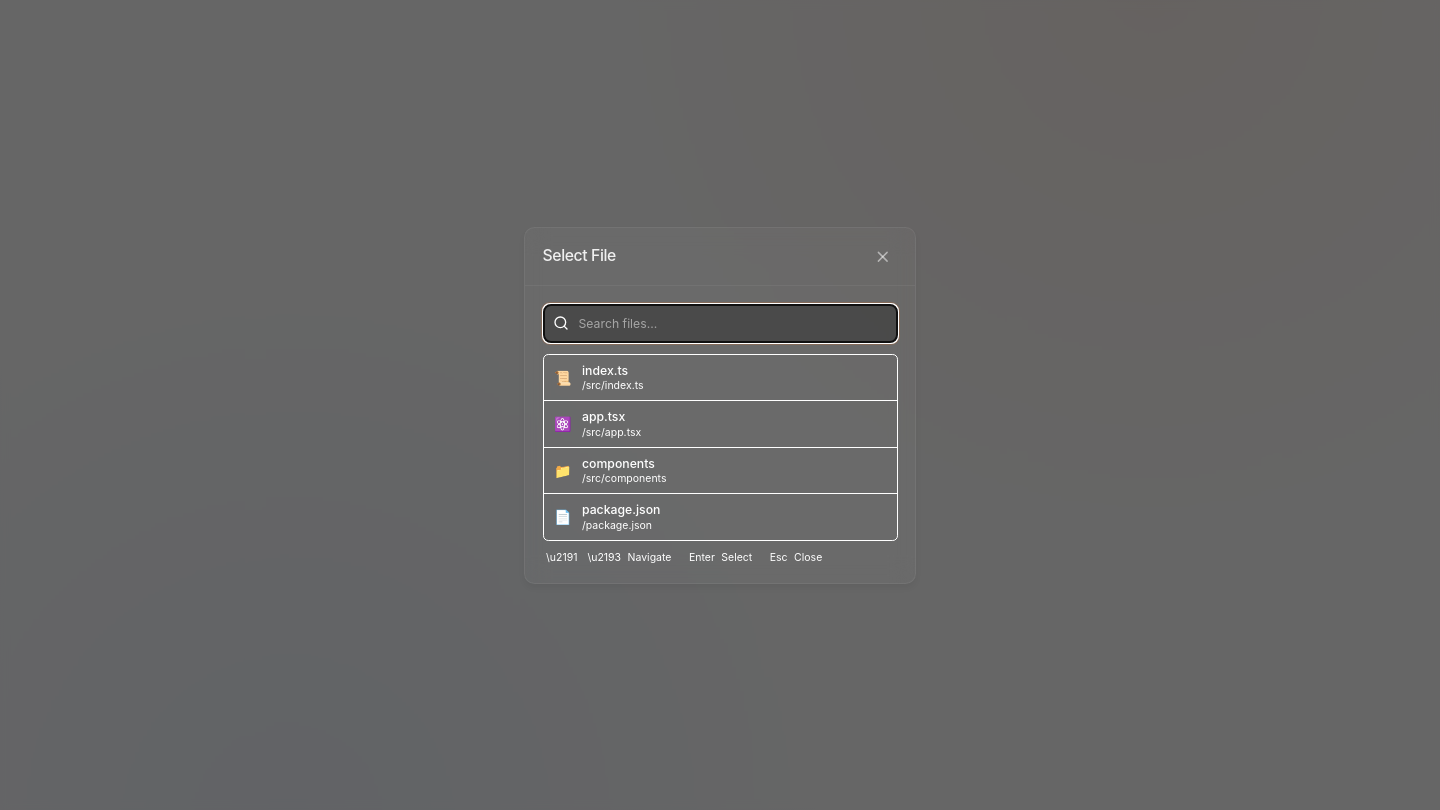
Test: FilePickerModal › empty state › should show message when no files match search
Type "nonexistent" into the field with placeholder "Search files..." at (720, 323), box x1=542 y1=304 x2=898 y2=343
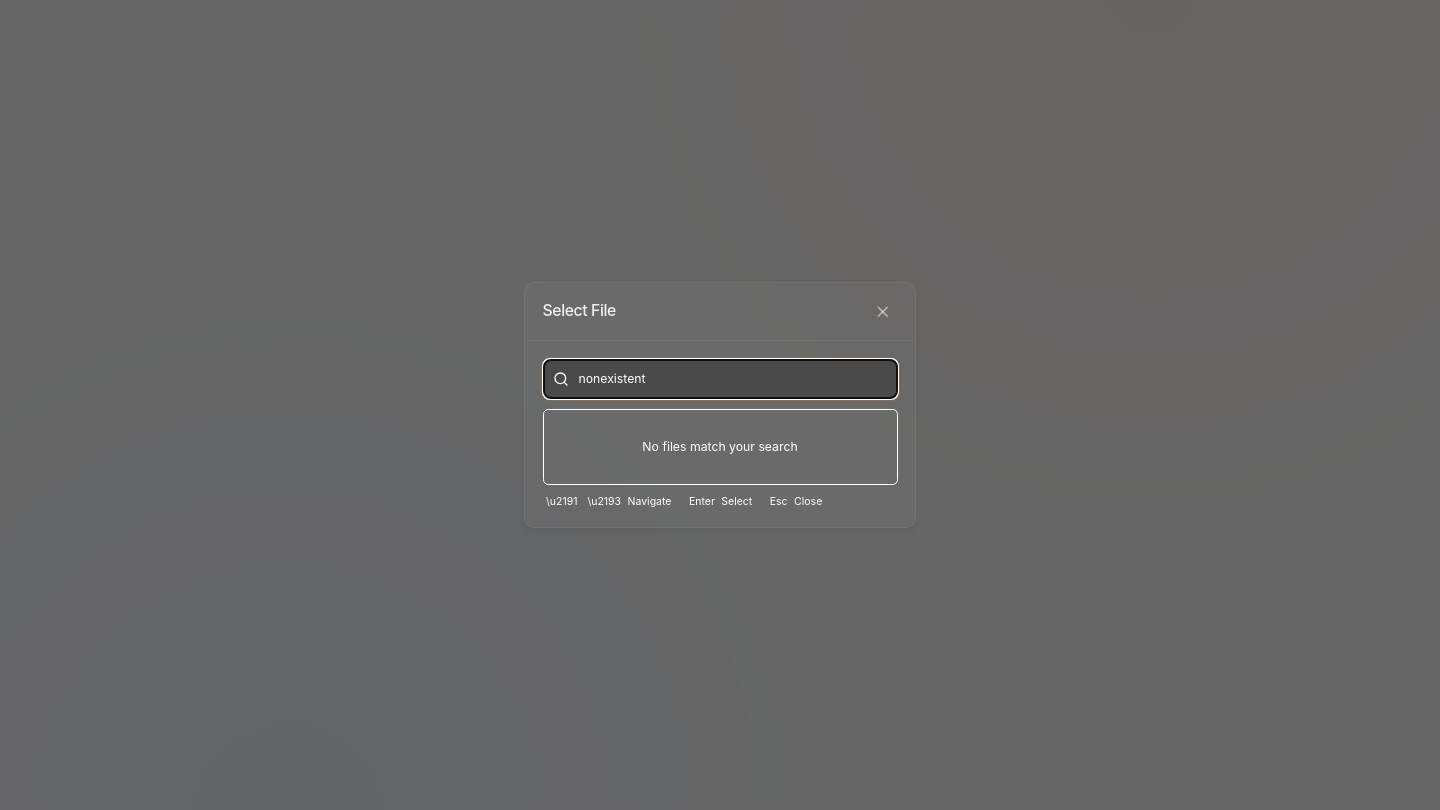
Expected: the text "No files match your search" is shown, x1=642 y1=439 x2=798 y2=454
